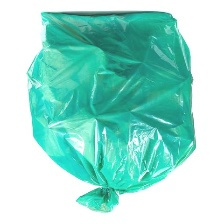plastic_bag: (23, 6, 200, 219)
